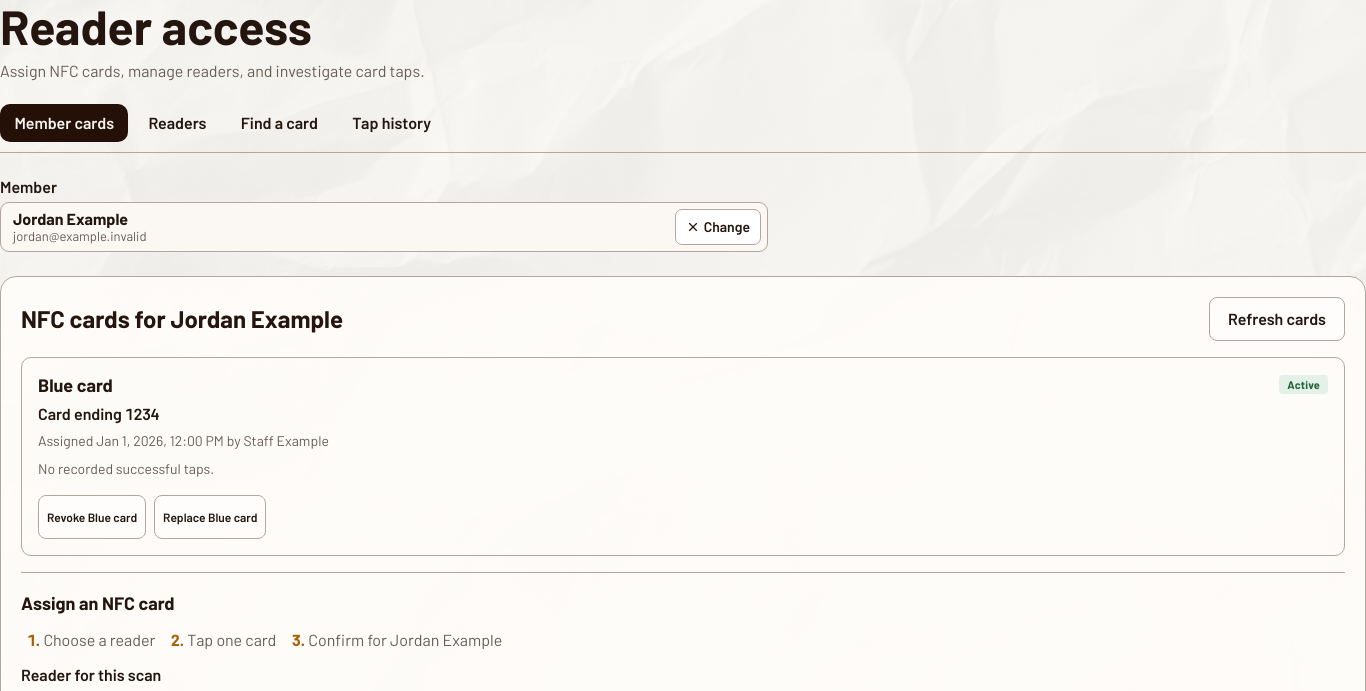
Test case: revocation requires confirmation, stale errors reload cards and the retry uses the latest revision
Click the button "Revoke Blue card". click: x=92, y=517
box: [38,495,146,539]
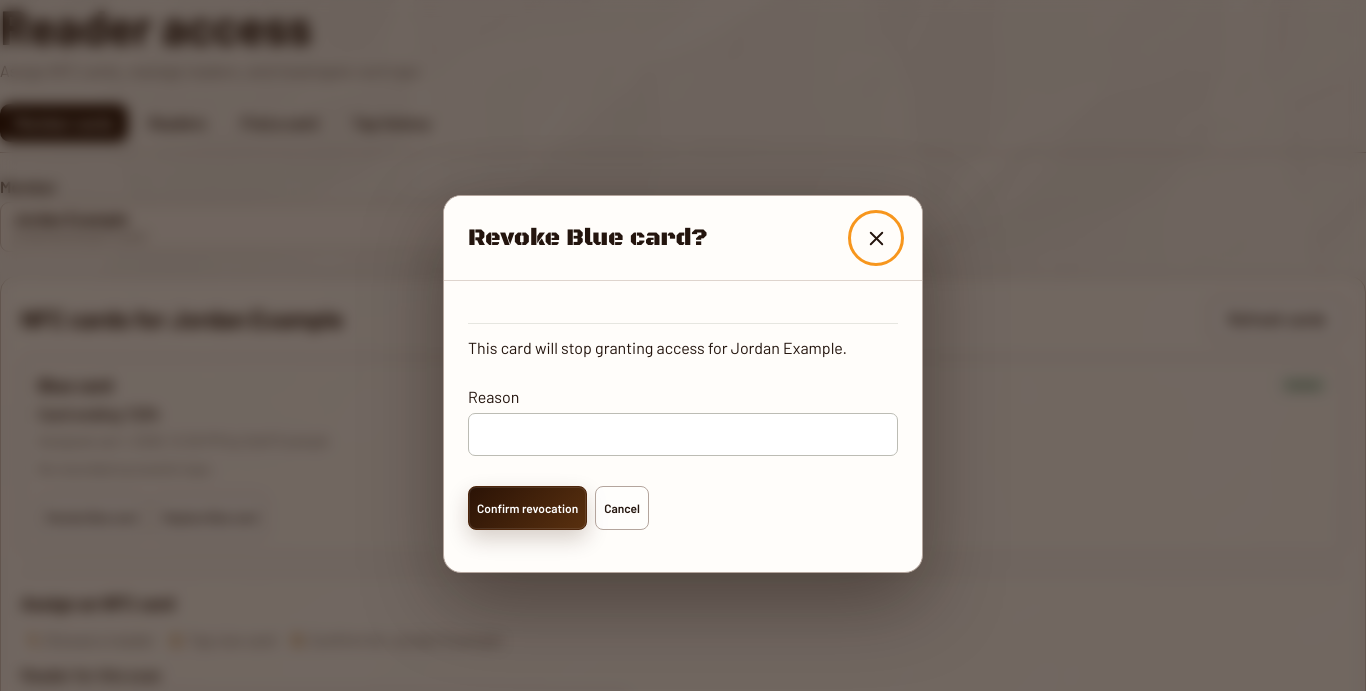
Type "Lost card" into the field labelled "Reason". click: x=683, y=434
box: [468,413,898,456]
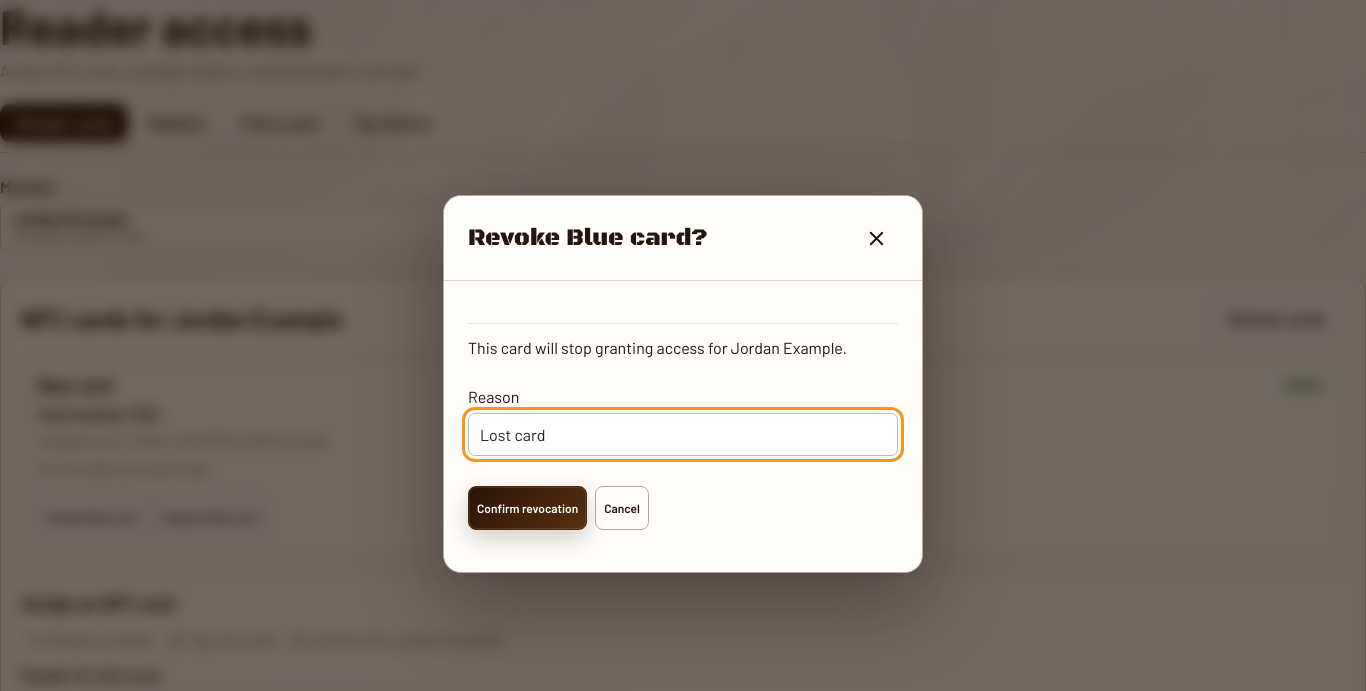
Click the button "Confirm revocation". click: x=528, y=508
box: [468,486,587,530]
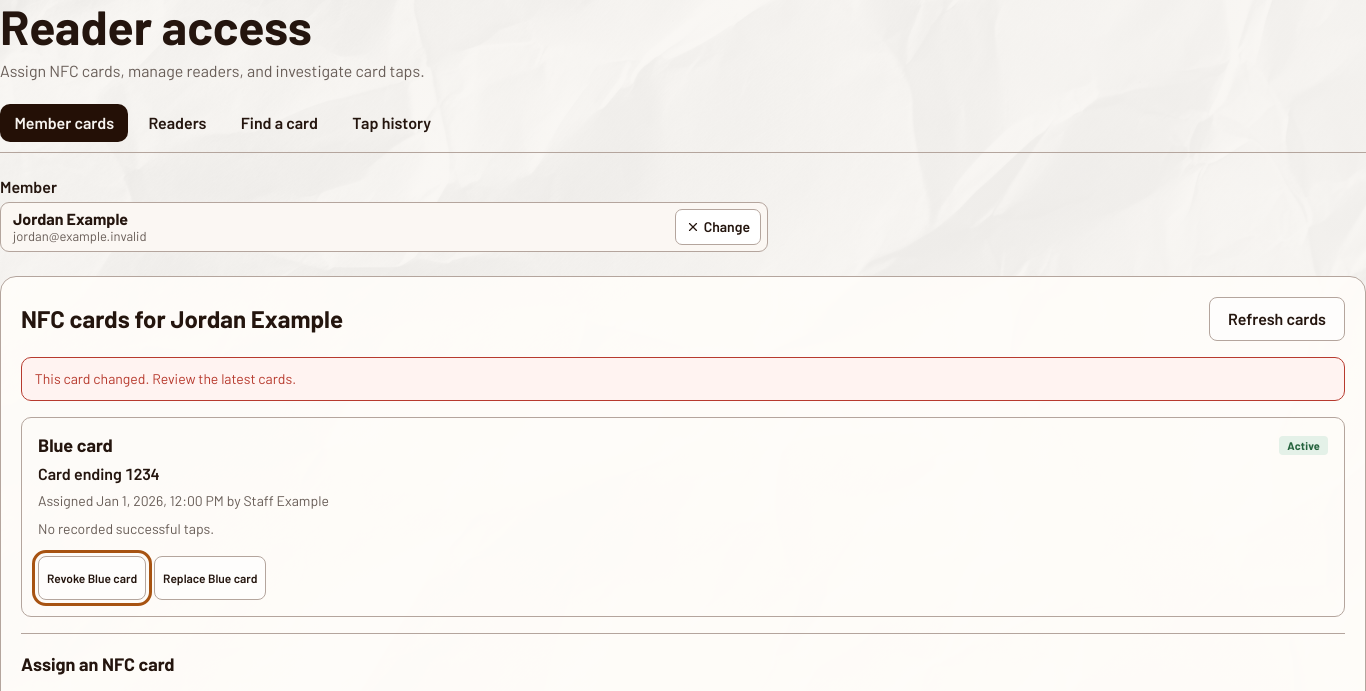
Click the button "Revoke Blue card". click: x=92, y=578
box: [38,556,146,600]
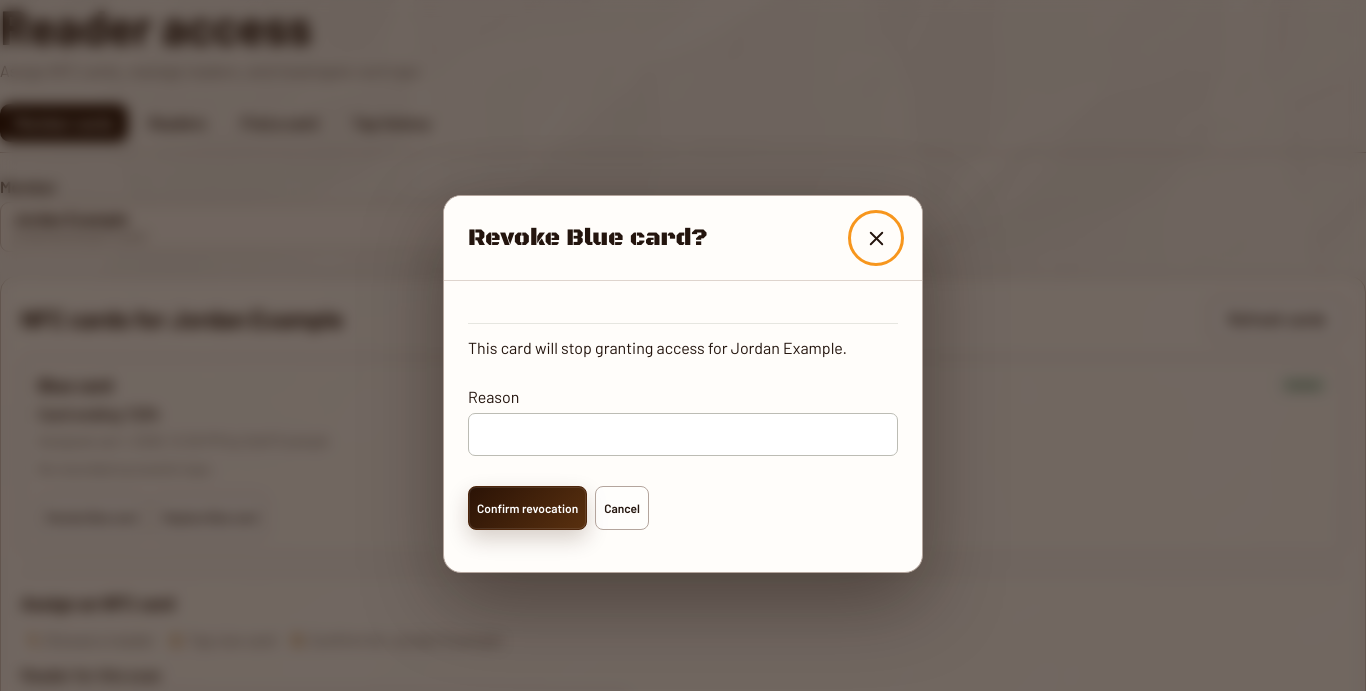
Type "Lost card" into the field labelled "Reason". click: x=683, y=434
box: [468,413,898,456]
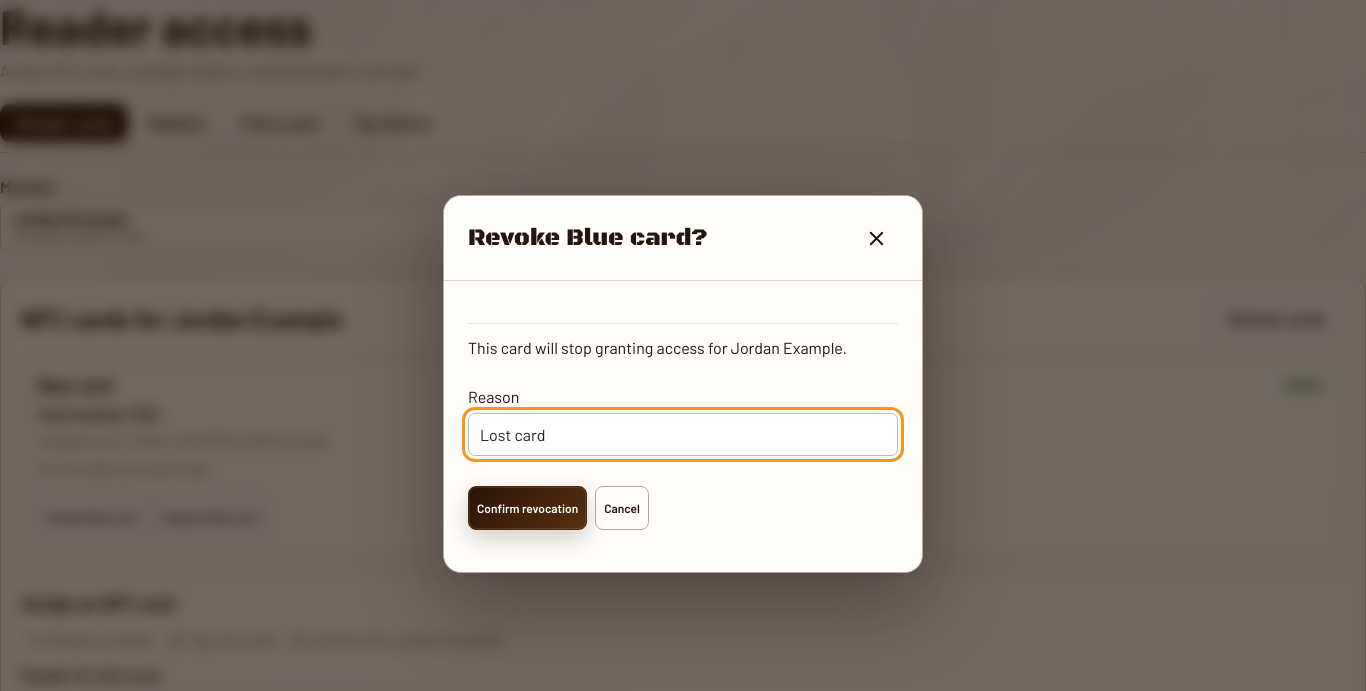
Click the button "Confirm revocation". click: x=528, y=508
box: [468,486,587,530]
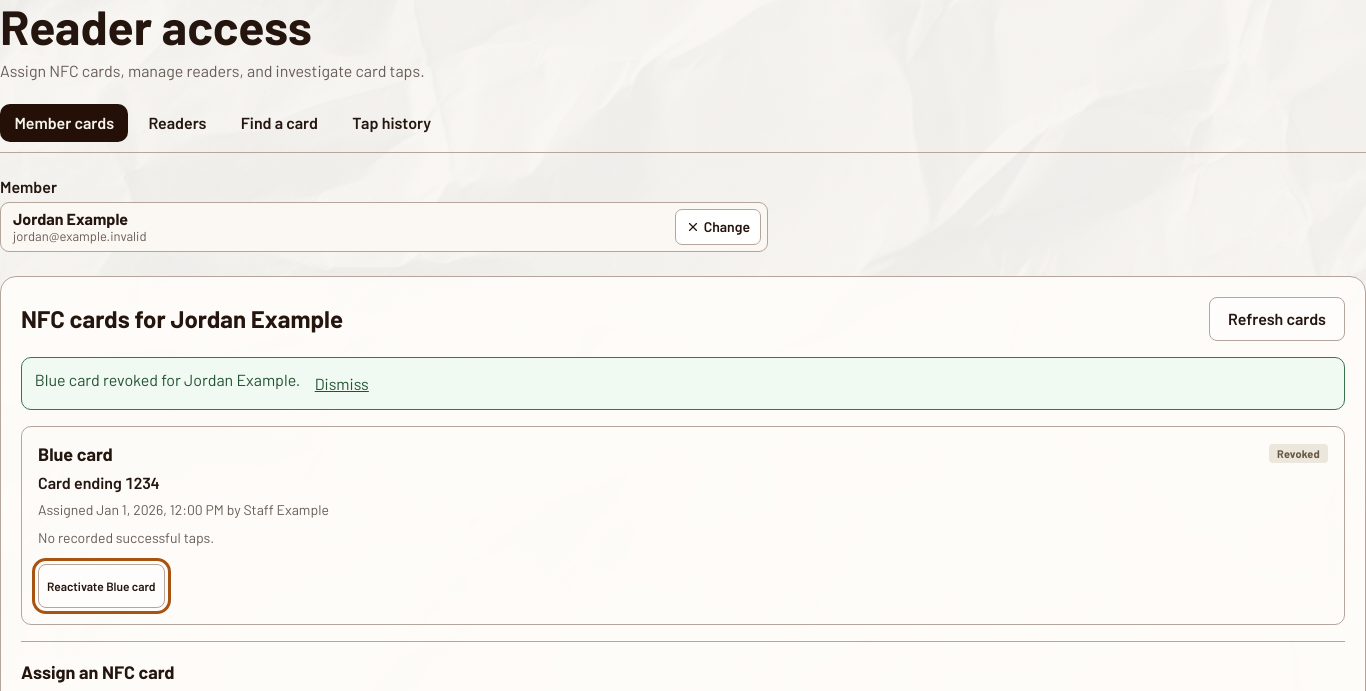
Expected: the button "Reactivate Blue card" is shown, [38,564,165,608]
